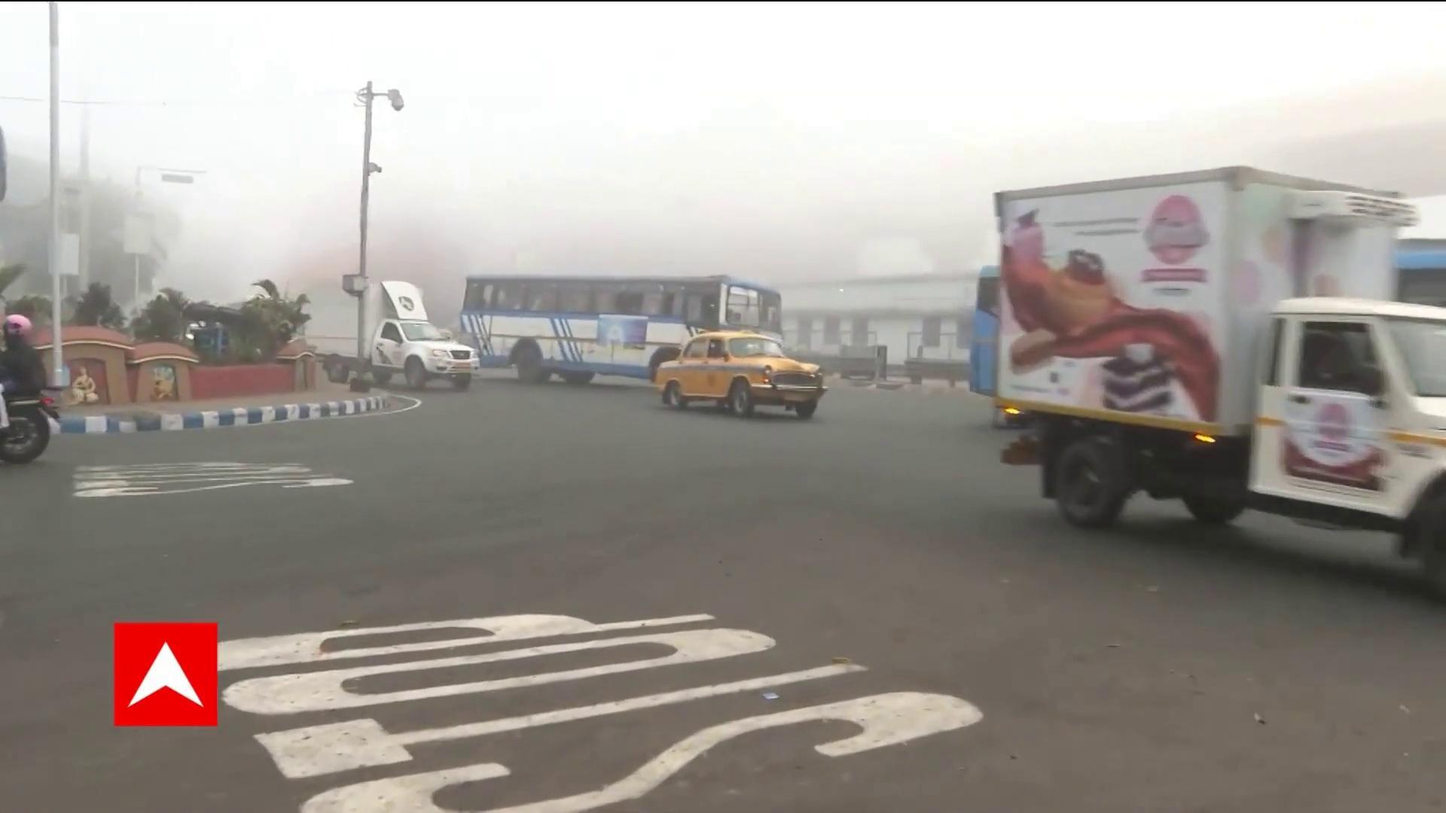Bus: (459, 268, 785, 388)
Car: (653, 328, 830, 416)
Truck: (988, 160, 1446, 531), (313, 273, 480, 390)
